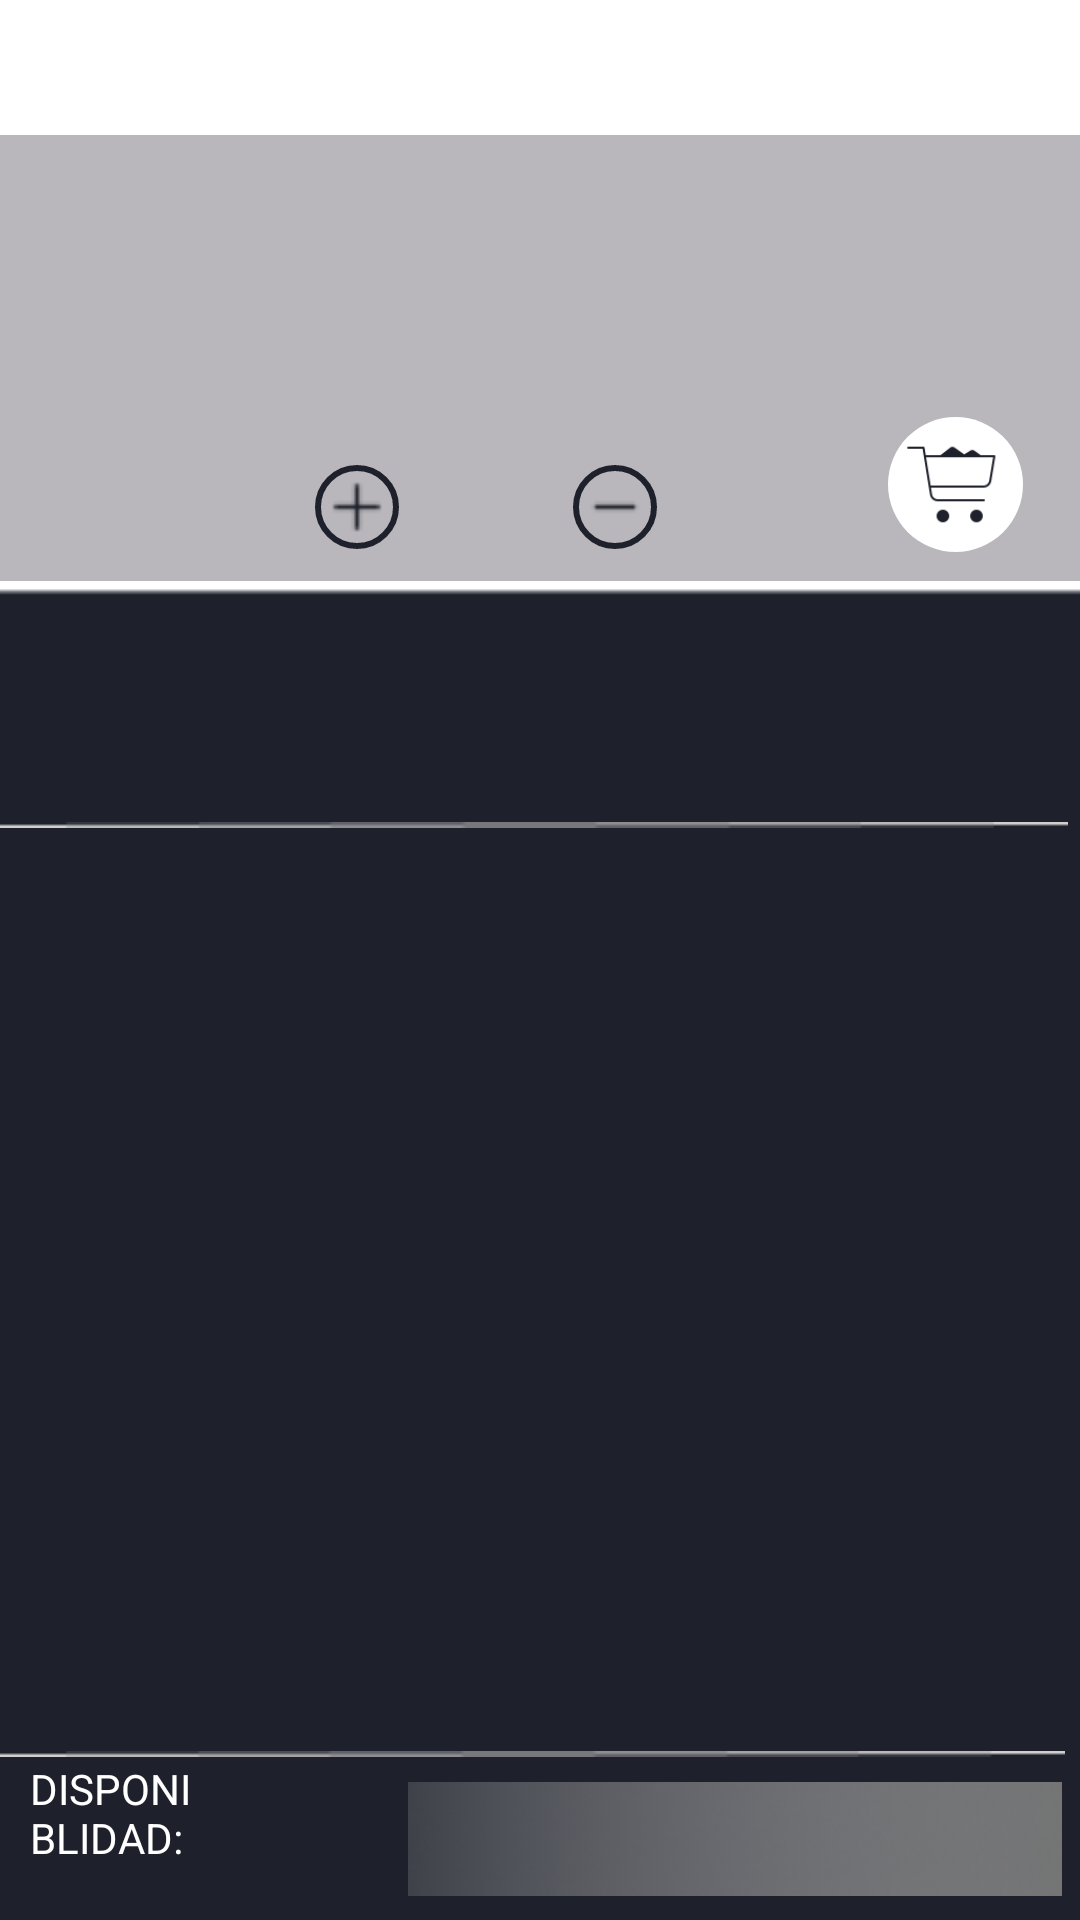

Named icons in this screenshot (1080w x 1920h) and their bounding boxes, (x1, y1, x2, y2):
buy: (888, 417, 1023, 552)
mas: (315, 465, 399, 549)
menos: (573, 465, 657, 549)
